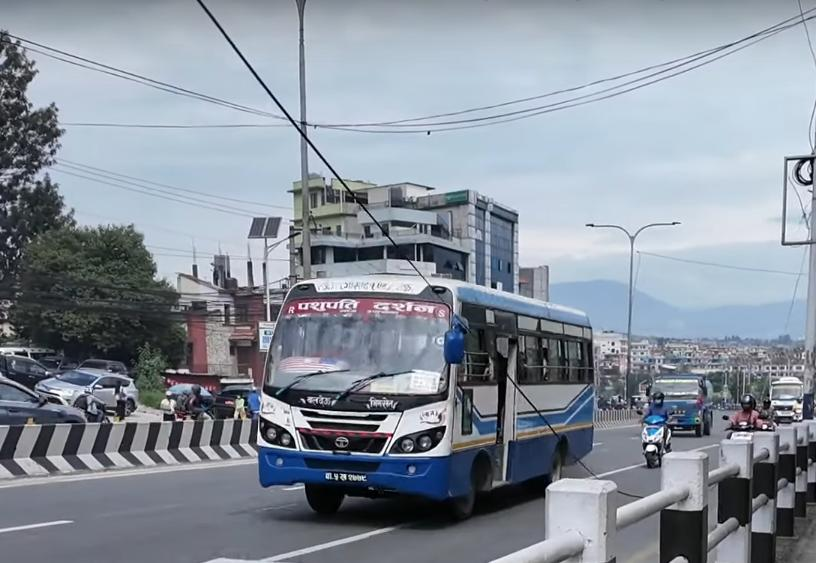bus: (252, 271, 604, 531)
